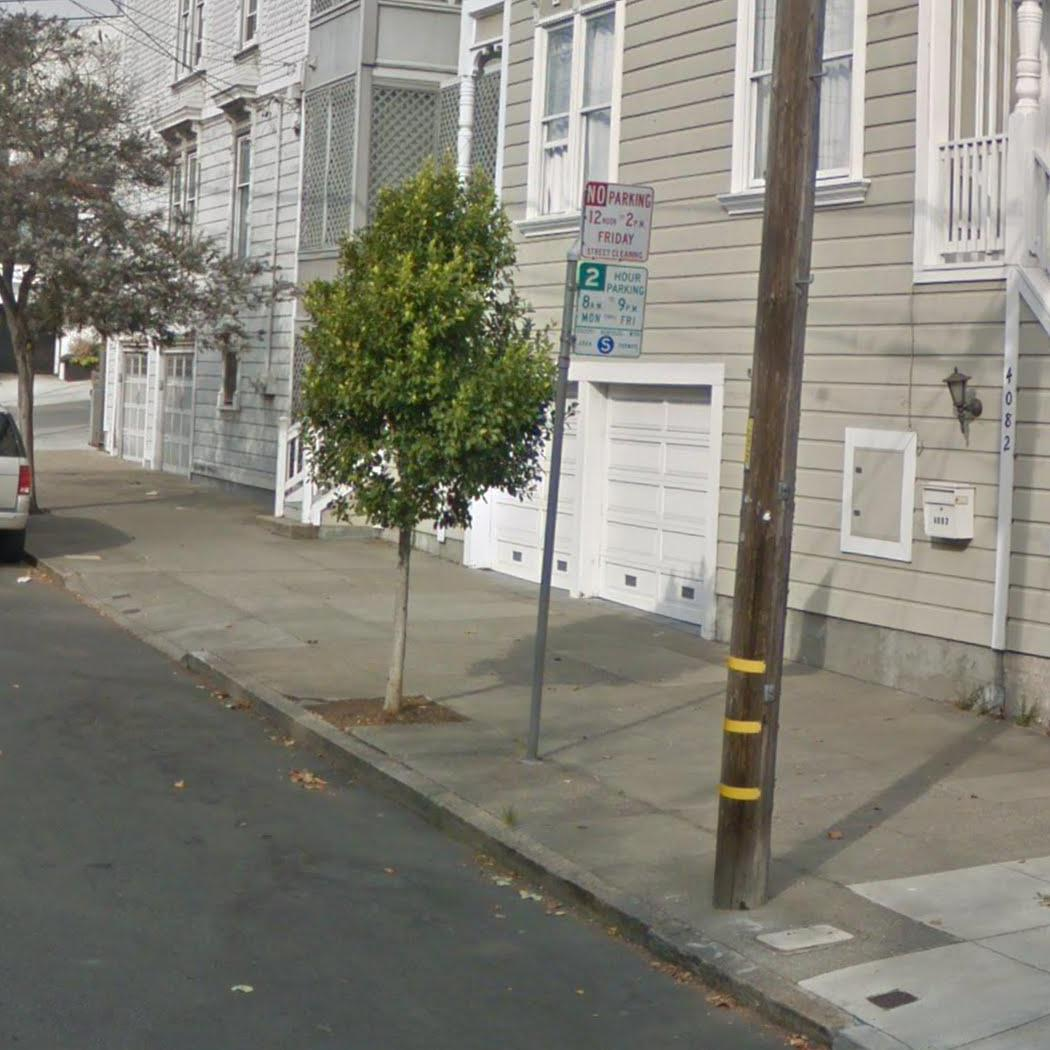2 Hour Parking: (571, 261, 651, 361)
No Parking: (578, 179, 657, 265)
